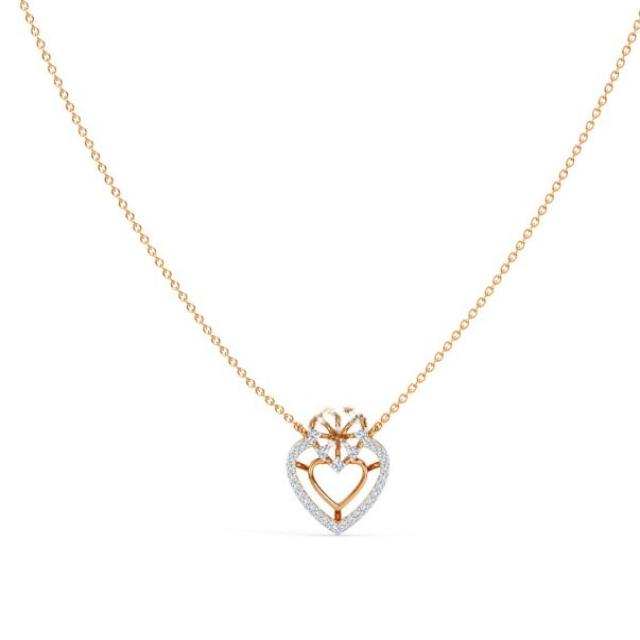missing gem: (326, 422, 348, 446), (330, 402, 345, 415), (313, 410, 326, 423), (349, 408, 361, 421)
